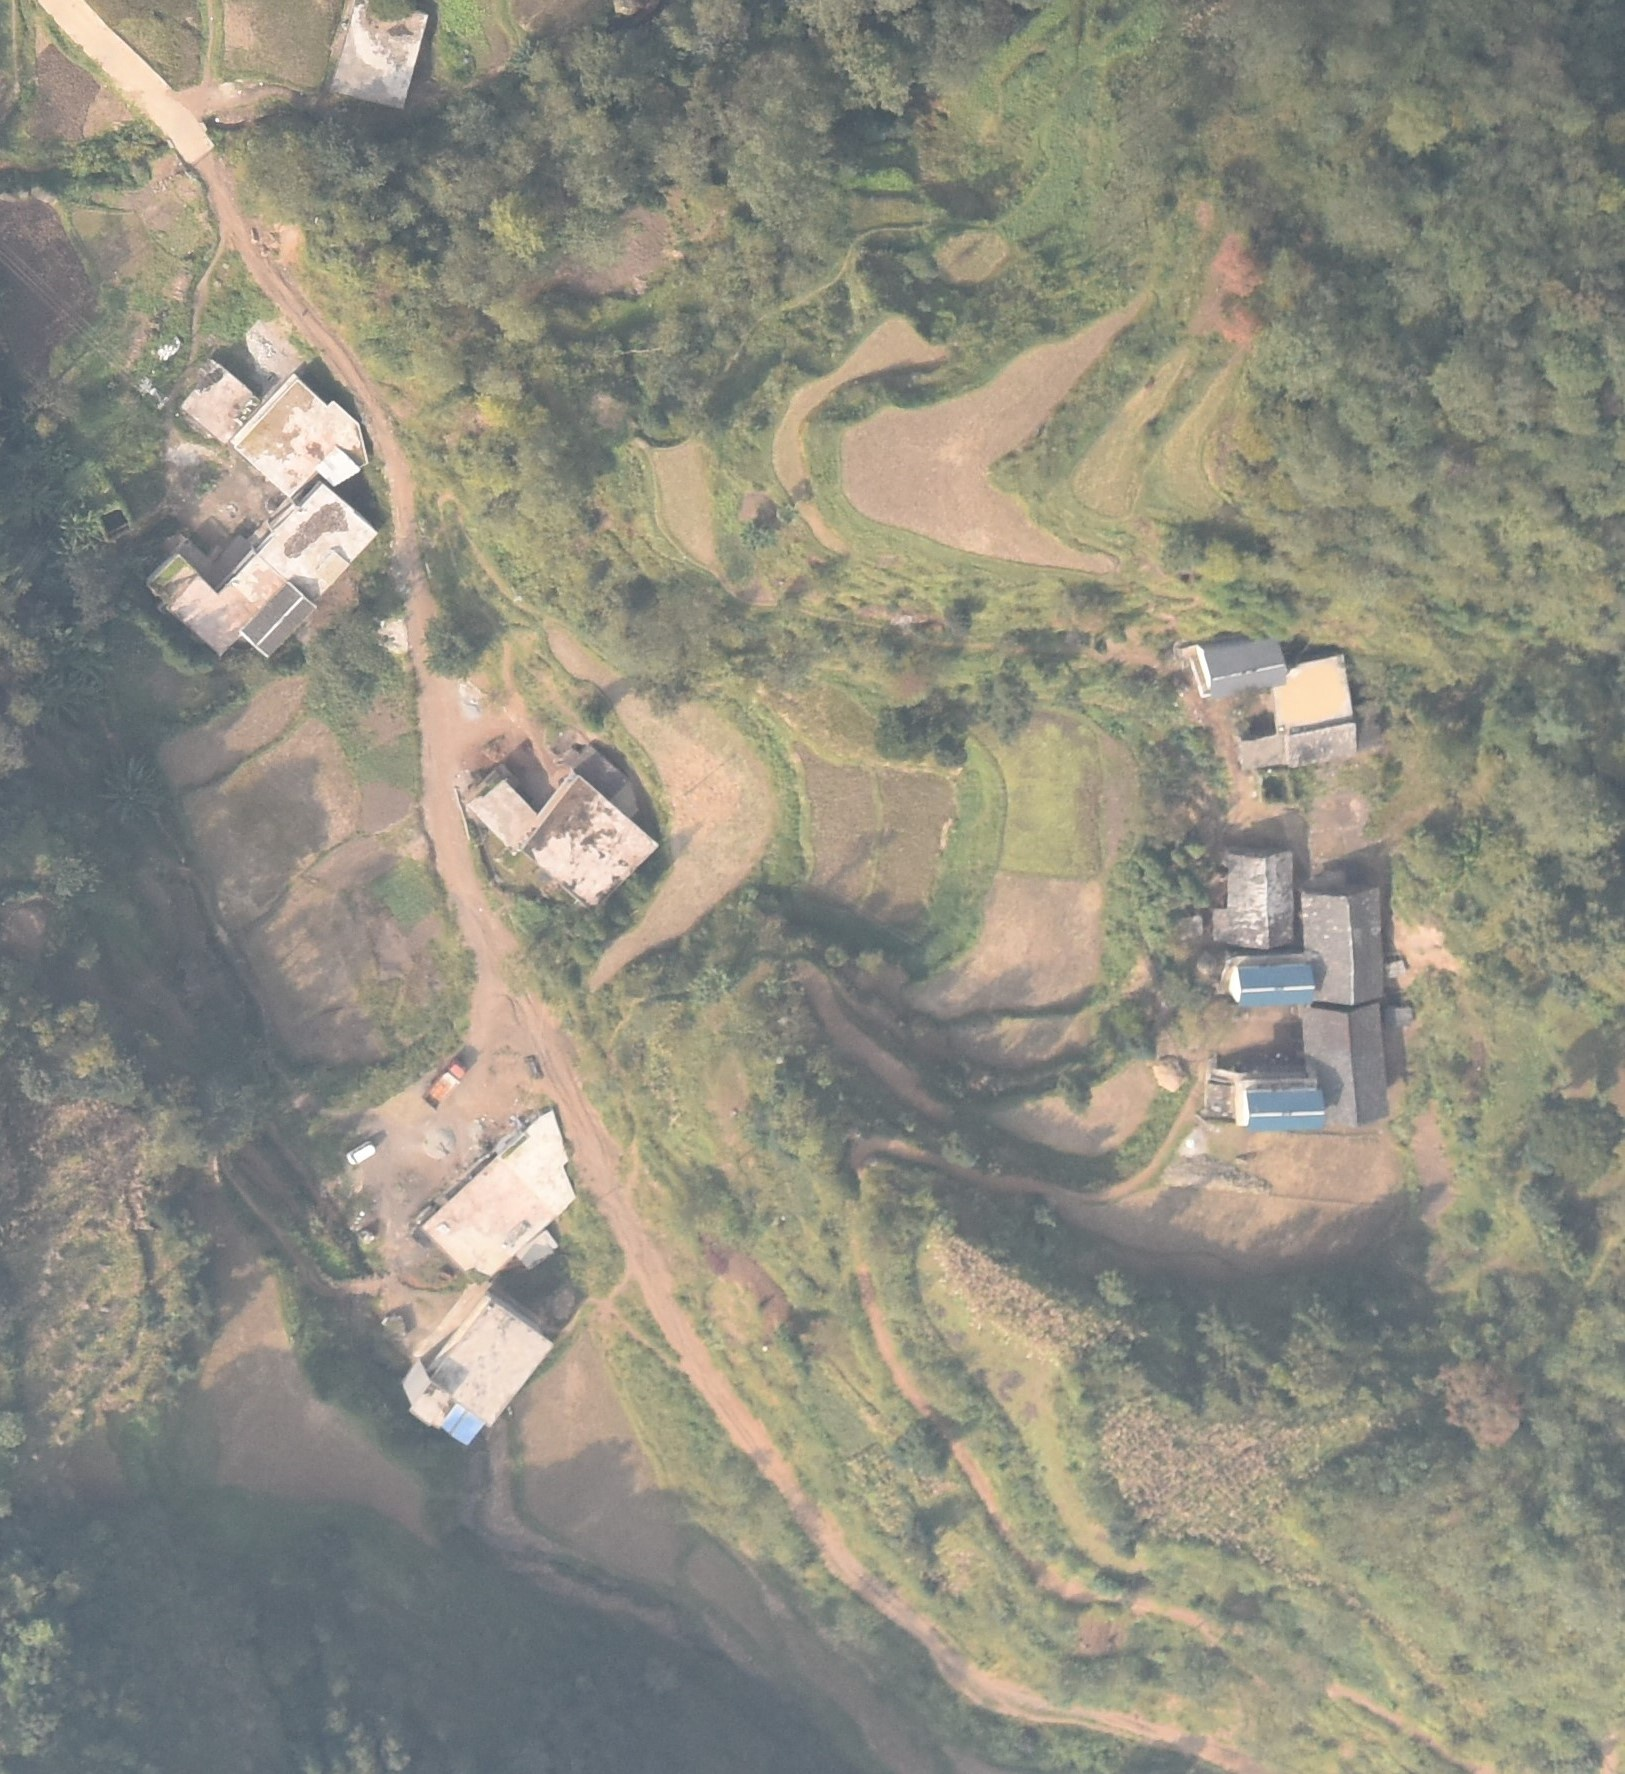building: (148, 479, 377, 658), (417, 1108, 578, 1276), (403, 1290, 558, 1443), (531, 770, 660, 906), (229, 376, 368, 498), (1240, 654, 1356, 766), (329, 2, 429, 107), (1305, 1004, 1390, 1125), (1301, 885, 1386, 1003), (1211, 848, 1294, 947), (244, 581, 318, 660), (181, 360, 253, 440), (1189, 640, 1285, 695), (1237, 1083, 1328, 1133), (473, 774, 533, 845), (1233, 964, 1311, 1006)
cable-tower: (1067, 376, 1101, 411)
prefabricated-house: (443, 1405, 483, 1445)
vehicle: (423, 1060, 466, 1108), (524, 1054, 545, 1082), (344, 1144, 374, 1164)
